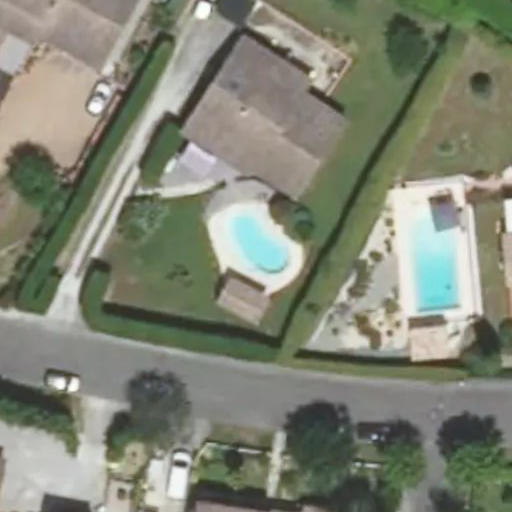pool: (208, 227, 297, 259)
